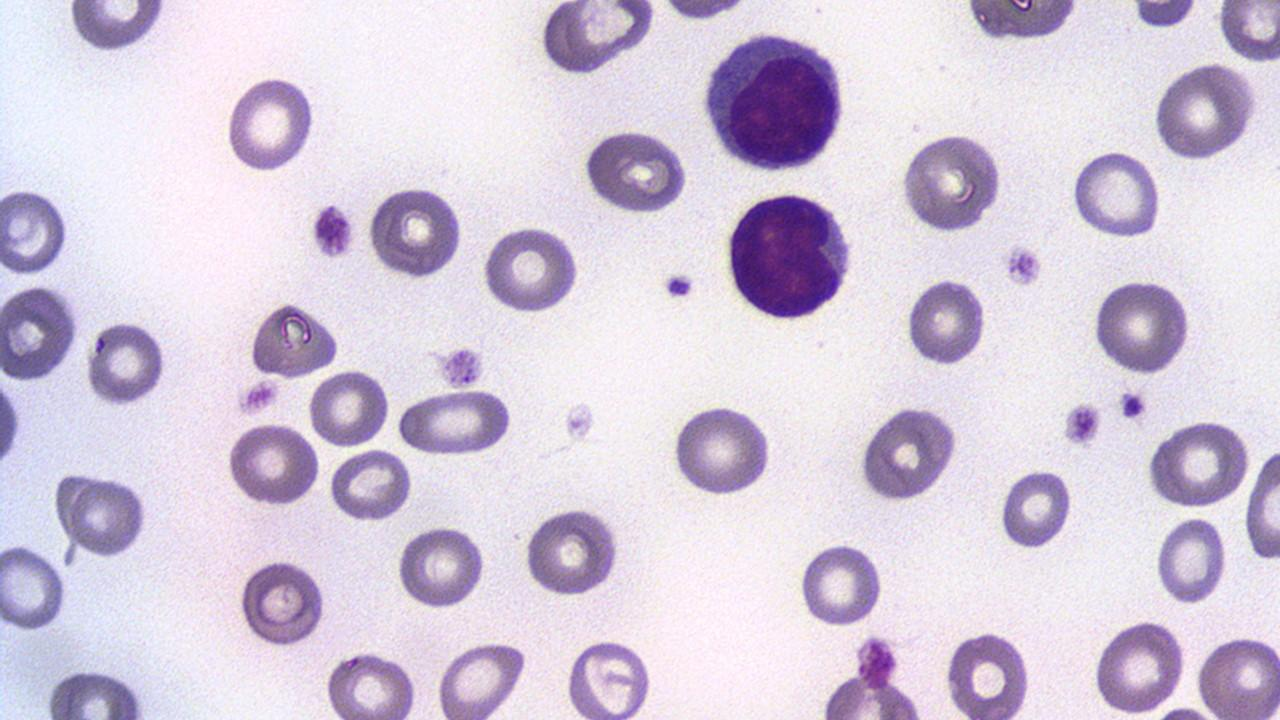Platelets: (306, 200, 357, 261), (432, 346, 489, 388), (1060, 398, 1104, 448), (1000, 240, 1044, 289), (236, 378, 280, 418), (560, 398, 598, 444), (660, 269, 698, 302), (1117, 388, 1149, 423)
RBC: (896, 131, 1006, 233), (1150, 61, 1260, 163), (1088, 276, 1196, 378), (855, 400, 960, 504), (670, 400, 774, 498), (366, 181, 466, 282), (580, 128, 692, 216), (534, 2, 660, 80), (1088, 616, 1188, 714), (1144, 419, 1252, 509), (223, 72, 318, 174), (479, 224, 584, 316), (521, 504, 622, 599), (940, 624, 1039, 718), (224, 418, 321, 509), (1071, 146, 1163, 240), (238, 554, 328, 650), (561, 634, 662, 717), (0, 280, 80, 384), (794, 539, 886, 629), (395, 522, 487, 612), (396, 387, 513, 456), (904, 273, 988, 368), (433, 638, 532, 718), (245, 298, 342, 378), (85, 318, 168, 409), (1194, 632, 1278, 717), (1154, 510, 1228, 606), (304, 367, 391, 447), (1, 183, 73, 279), (67, 474, 149, 558), (320, 650, 420, 718), (998, 464, 1074, 552), (328, 447, 413, 523), (1, 538, 69, 632), (65, 1, 170, 57), (40, 665, 155, 716), (955, 1, 1092, 42), (1242, 440, 1280, 564), (1217, 2, 1279, 66), (0, 369, 25, 476), (655, 0, 755, 23)
WBC: (698, 26, 852, 176), (722, 186, 861, 326)
